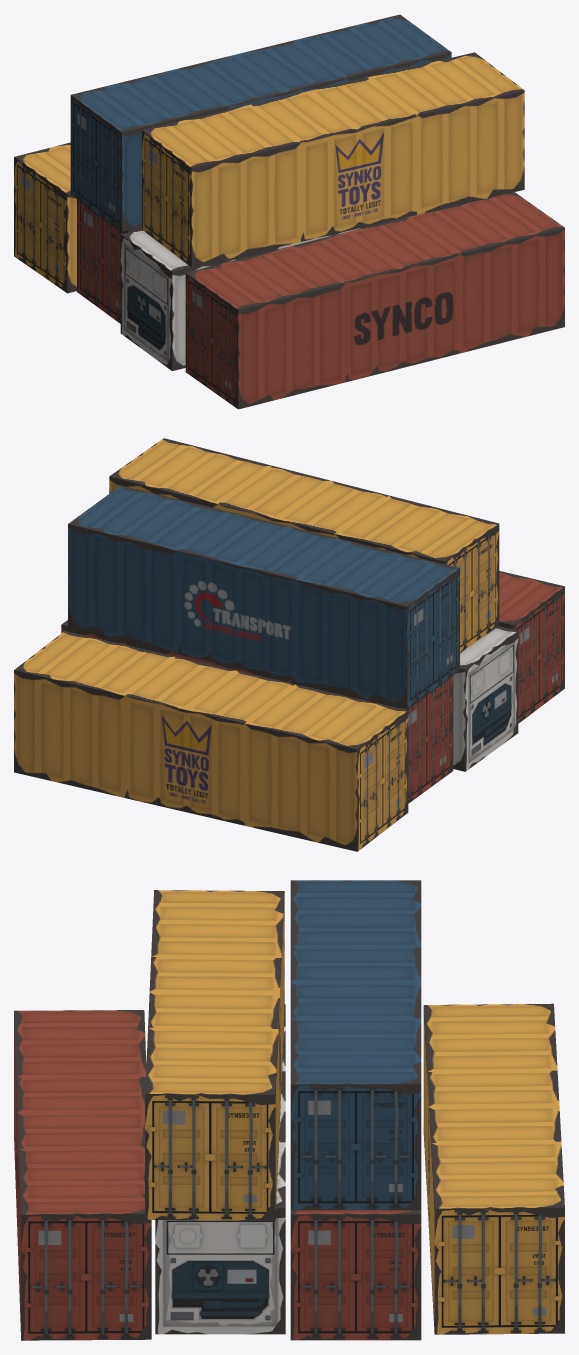
The model's file is SM_Prop_Container_Large_Stack_04.fbx.
The picture shows the model from 3 angles, top to bottom: view 1: azimuth 30°, elevation 25°; view 2: azimuth 150°, elevation 25°; view 3: azimuth 270°, elevation 25°; orthographic projection. The views are drawn at different scales.
Visible parts, largest first — view 1: SM_Prop_Container_Large_Stack_04; view 2: SM_Prop_Container_Large_Stack_04; view 3: SM_Prop_Container_Large_Stack_04.
Boxes of the visible parts, left/top/right/bottom form: SM_Prop_Container_Large_Stack_04: left=14, top=14, right=564, bottom=409; SM_Prop_Container_Large_Stack_04: left=14, top=438, right=564, bottom=851; SM_Prop_Container_Large_Stack_04: left=14, top=880, right=564, bottom=1340.
Size of the model in its own units: 957 by 518 by 1027.
